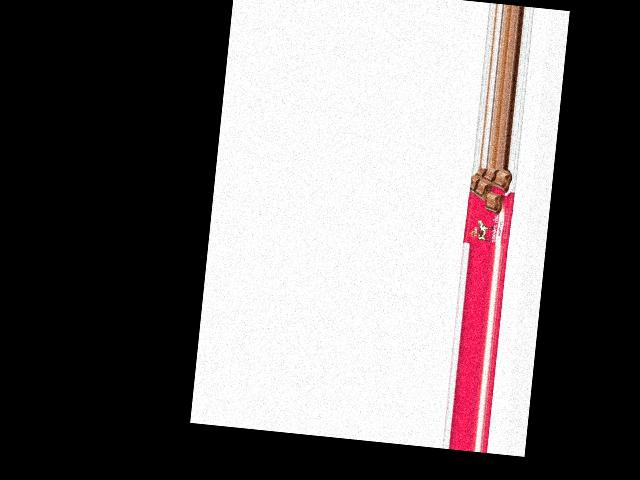chocolate: (464, 166, 517, 248)
